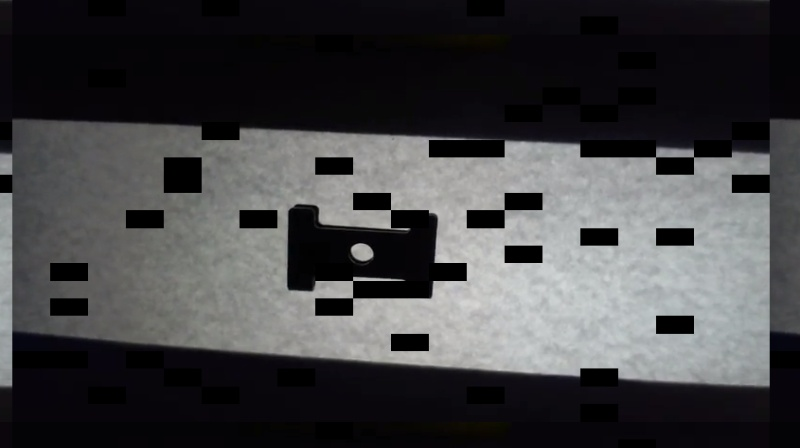O002: (280, 198, 440, 301)
